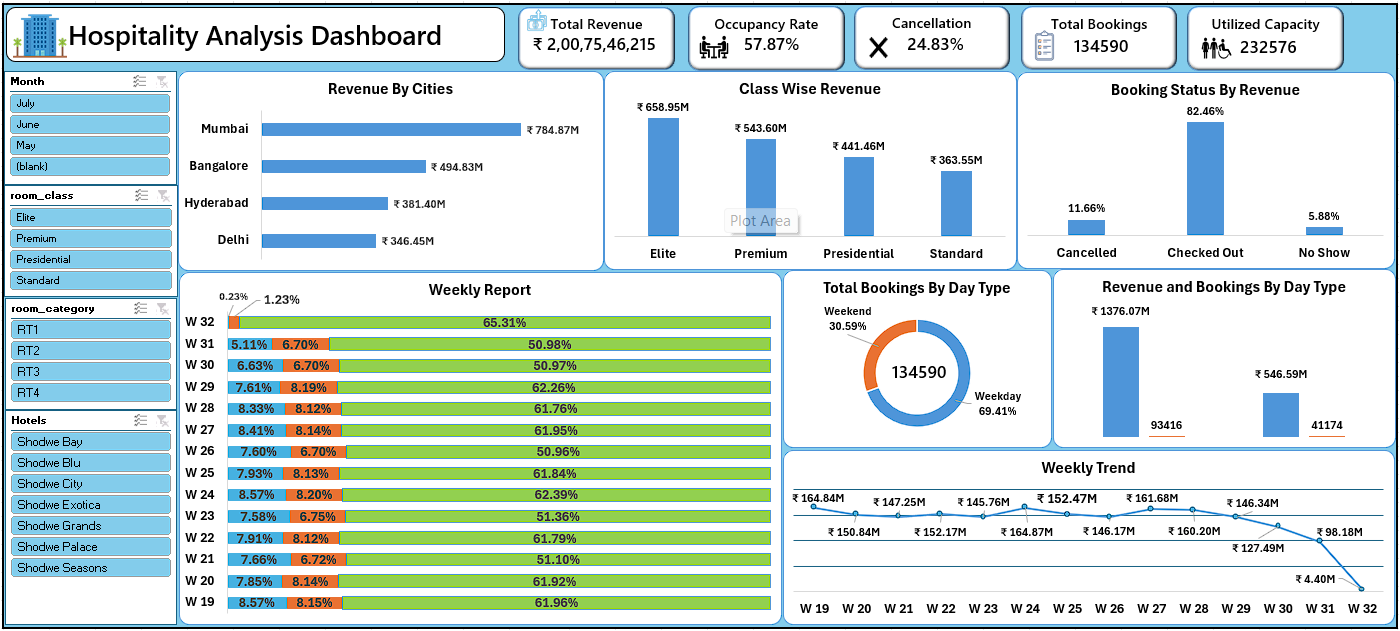

The dashboard page shown, as its layout file describes it:
{"tool":"tableau","page":{"name":"Dashboard 1","canvas":[1660,800],"ordinal":0},"visuals":[{"type":"image","param":"Image/Green - Blue Background.png","box":[0,0,1285,791]},{"type":"worksheet","title":"Sheet 3","mark":"Automatic","box":[0,0,1286,791]},{"type":"image","param":"Image/Taj_Hotels_logo.svg","box":[11,1,54,42]},{"type":"filter","title":"Sheet 2","param":"[federated.0jhrag60bgtqcr1gfnqsa13xlo9b].[none:category:nk]","box":[592,6,161,32]},{"type":"filter","title":"Sheet 2","param":"[federated.0jhrag60bgtqcr1gfnqsa13xlo9b].[mn:mmm_yy:ok]","box":[437,7,152,32]},{"type":"filter","title":"Sheet 2","param":"[federated.0jhrag60bgtqcr1gfnqsa13xlo9b].[none:room_class:nk]","box":[756,7,159,32]},{"type":"filter","title":"Sheet 2","param":"[federated.0jhrag60bgtqcr1gfnqsa13xlo9b].[none:property_name:nk]","box":[918,7,172,32]},{"type":"filter","title":"Sheet 2","param":"[federated.0jhrag60bgtqcr1gfnqsa13xlo9b].[none:city:nk]","box":[1093,7,164,31]},{"type":"dashboard-object","box":[1239,46,39,33]},{"type":"worksheet","title":"KPI\"S Metrics","mark":"Automatic","box":[187,54,953,65]},{"type":"filter","title":"Sheet 2","param":"[federated.0jhrag60bgtqcr1gfnqsa13xlo9b].[none:room_category:nk]","box":[44,57,122,54]},{"type":"worksheet","title":"Sheet 2","mark":"Automatic","rows":["city"],"cols":["revenue_generated"],"box":[22,142,360,202]},{"type":"worksheet","title":"Sheet 4","mark":"Automatic","rows":["revenue_generated"],"cols":["room_class"],"box":[415,143,391,201]},{"type":"worksheet","title":"Sheet 5","mark":"Automatic","rows":["revenue_realized"],"cols":["booking_status"],"box":[833,145,430,199]},{"type":"worksheet","title":"Sheet 8","mark":"Pie","rows":["Calculation_680888027235426308","Calculation_680888027235426308"],"box":[918,368,342,234]},{"type":"worksheet","title":"Sheet 6","mark":"Automatic","cols":["day_type"],"box":[22,369,252,227]},{"type":"worksheet","title":"Sheet 10","mark":"Automatic","rows":["category"],"cols":["revenue_generated"],"box":[305,370,581,228]},{"type":"worksheet","title":"Sheet 7","mark":"Line","rows":["revenue_generated"],"cols":["week_no"],"box":[24,632,1239,143]}]}

Visuals, with their boxes on the page's 1660x800 design canvas (x1, y1, x2, y2). These are canvas units, not pixel positions in the 1400x631 screenshot, which may show the page scaled, cropped or inside an application window:
image: <box>0,0,1285,791</box>
"Sheet 3" worksheet: <box>0,0,1286,791</box>
image: <box>11,1,65,43</box>
"Sheet 2" filter: <box>592,6,753,38</box>
"Sheet 2" filter: <box>437,7,589,39</box>
"Sheet 2" filter: <box>756,7,915,39</box>
"Sheet 2" filter: <box>918,7,1090,39</box>
"Sheet 2" filter: <box>1093,7,1257,38</box>
dashboard-object: <box>1239,46,1278,79</box>
"KPI"S Metrics" worksheet: <box>187,54,1140,119</box>
"Sheet 2" filter: <box>44,57,166,111</box>
"Sheet 2" worksheet: <box>22,142,382,344</box>
"Sheet 4" worksheet: <box>415,143,806,344</box>
"Sheet 5" worksheet: <box>833,145,1263,344</box>
"Sheet 8" worksheet (Pie marks): <box>918,368,1260,602</box>
"Sheet 6" worksheet: <box>22,369,274,596</box>
"Sheet 10" worksheet: <box>305,370,886,598</box>
"Sheet 7" worksheet (Line marks): <box>24,632,1263,775</box>
